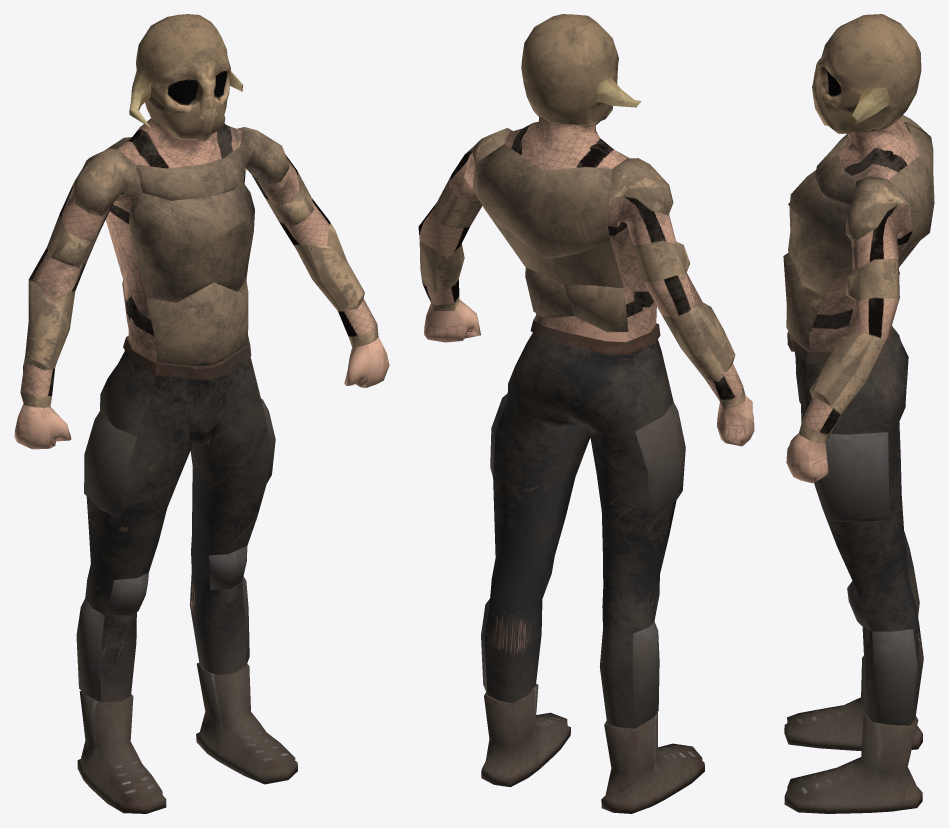
The model's file is Anim_idle_npc1.0050.obj.
The picture shows the model from 3 angles, left to right: view 1: azimuth 30°, elevation 25°; view 2: azimuth 150°, elevation 25°; view 3: azimuth 270°, elevation 25°; orthographic projection.
Parts seen in each view (by area): view 1: NPC2; view 2: NPC2; view 3: NPC2.
Part boxes in pixels (<box>): NPC2: <box>14,14,389,813</box>; NPC2: <box>418,14,754,813</box>; NPC2: <box>783,14,934,813</box>.
Size of the model in its own units: 4.66 by 9.66 by 1.74.
